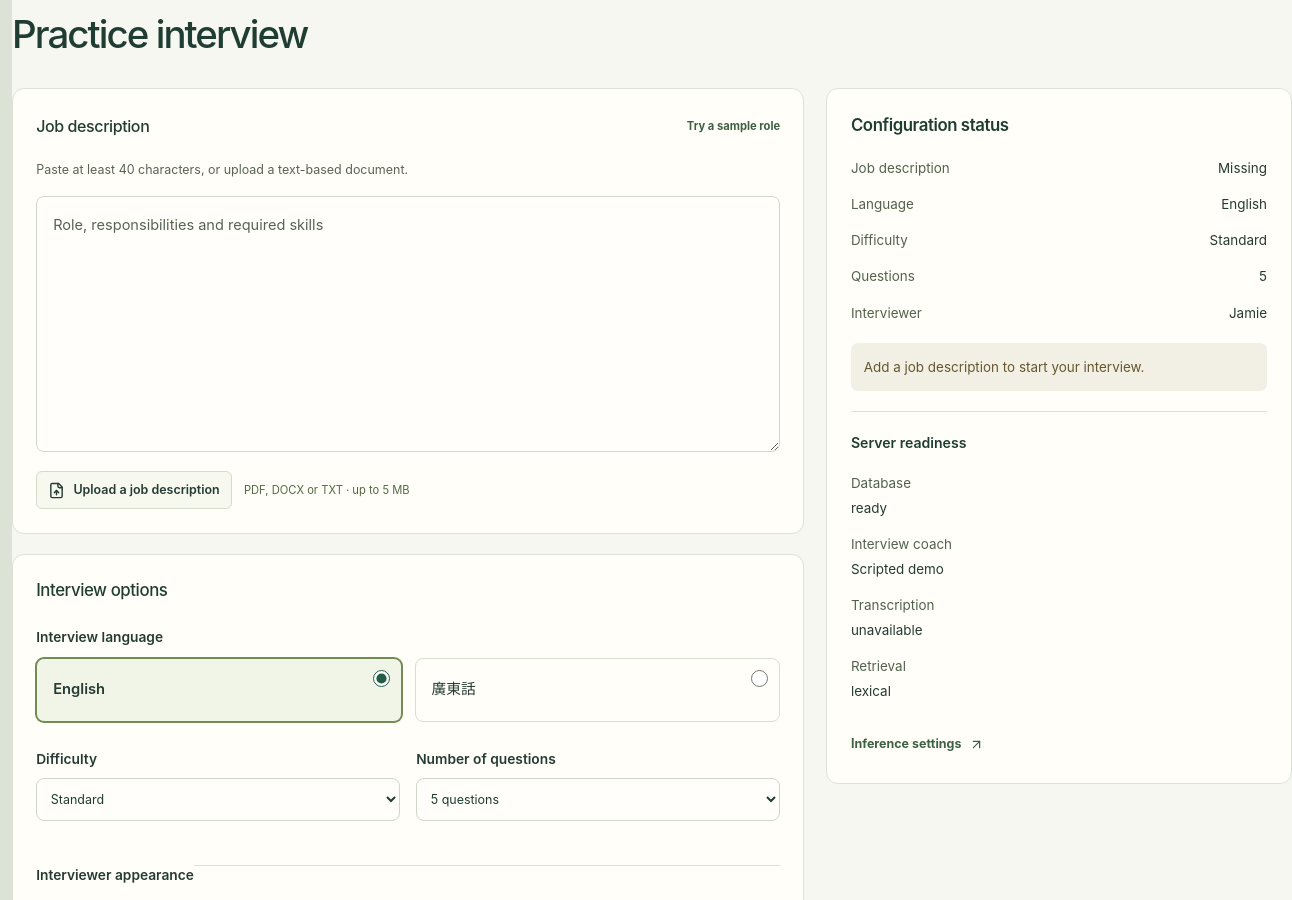
Test: interview setup › keeps the right column read-only while reflecting the selected configuration
The image size is (1292, 900).
Check: the text "Missing" is shown, box [1218,158,1267,178]
Click the radio button labelled "廣東話": {"x": 760, "y": 679} [751,670,768,687]
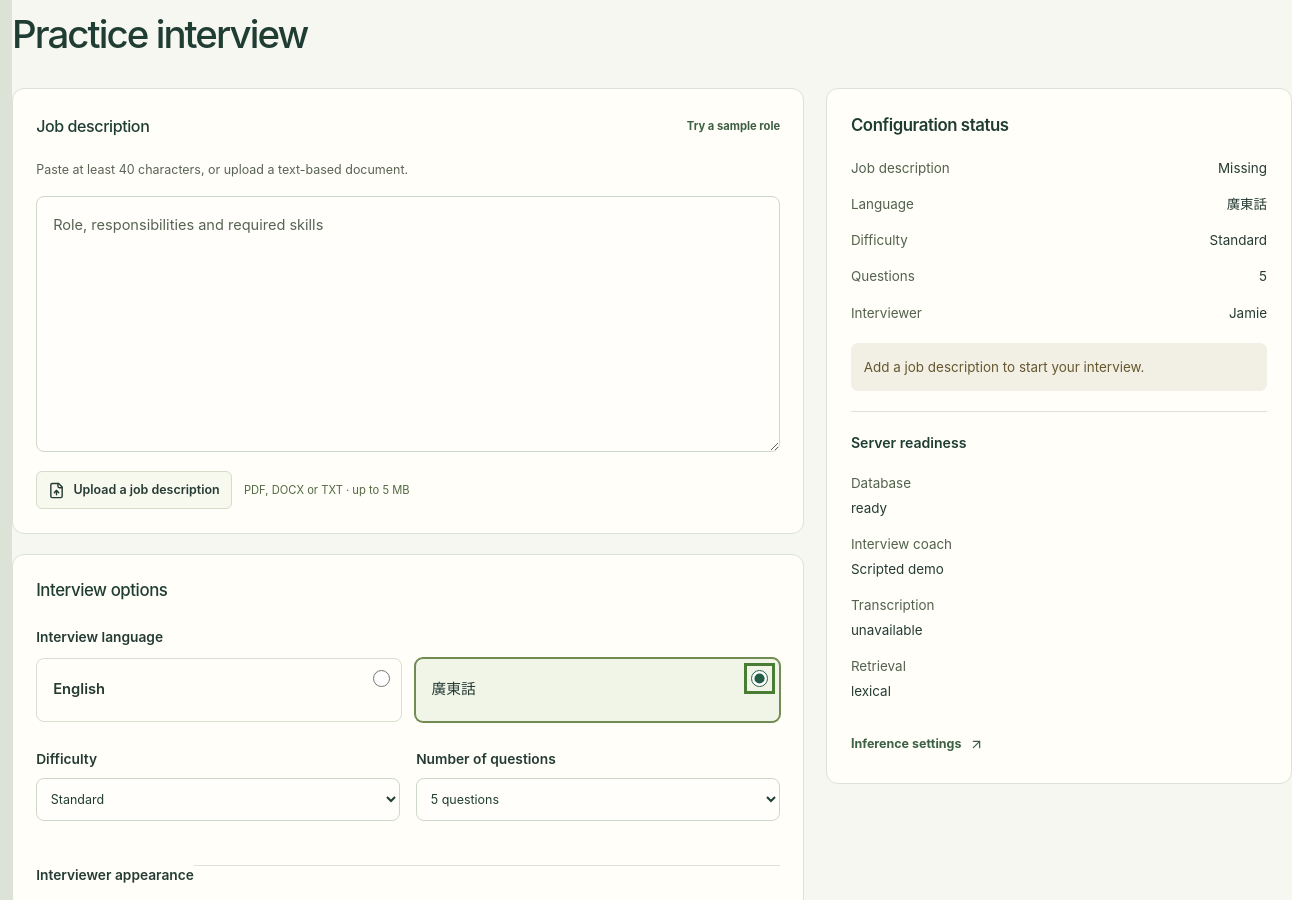
Select "Stretch" in the dropdown labelled "Difficulty": {"x": 218, "y": 800} [36,778,400,821]
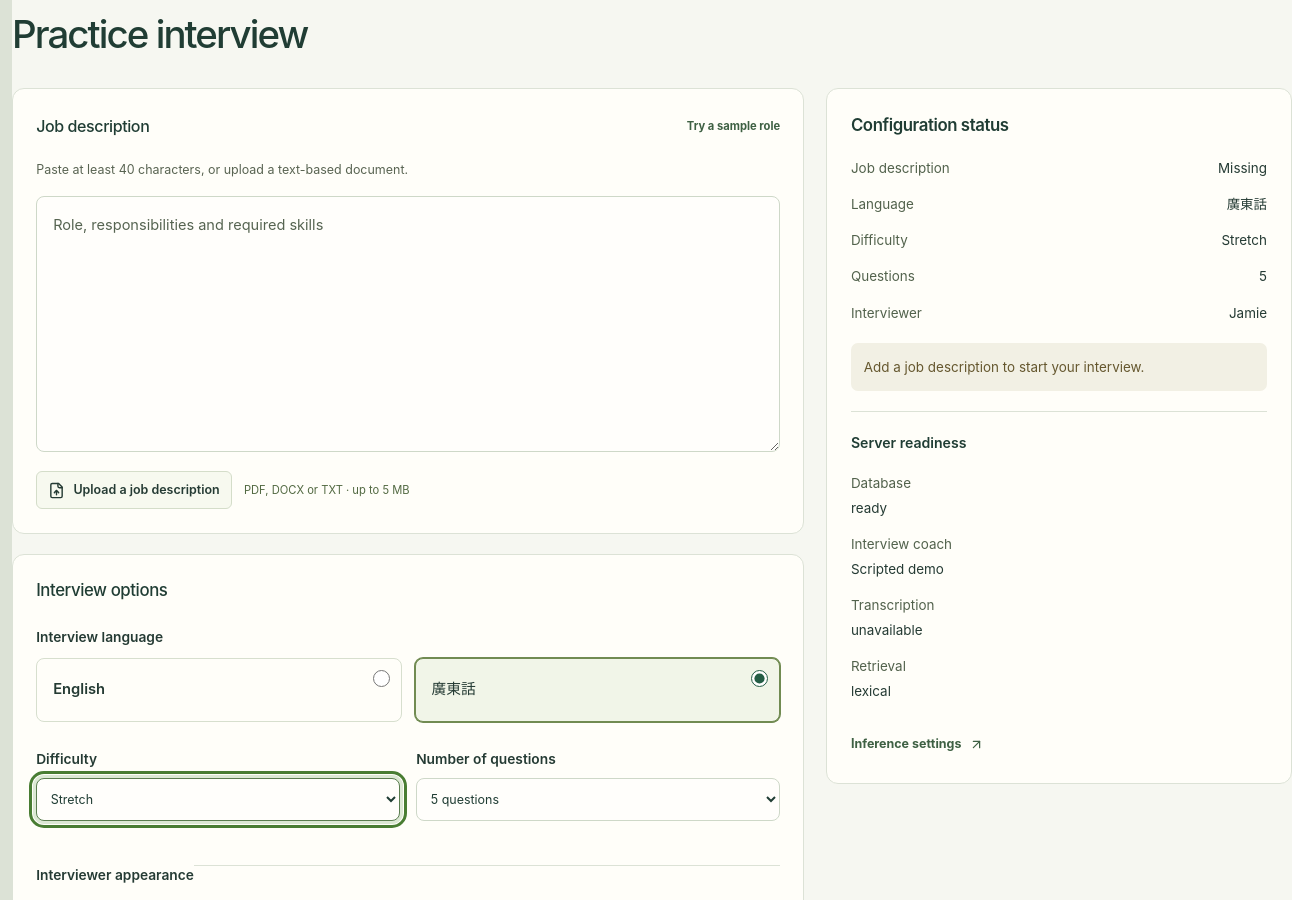
Select "8 questions" in the dropdown labelled "Number of questions": {"x": 598, "y": 800} [416,778,780,821]
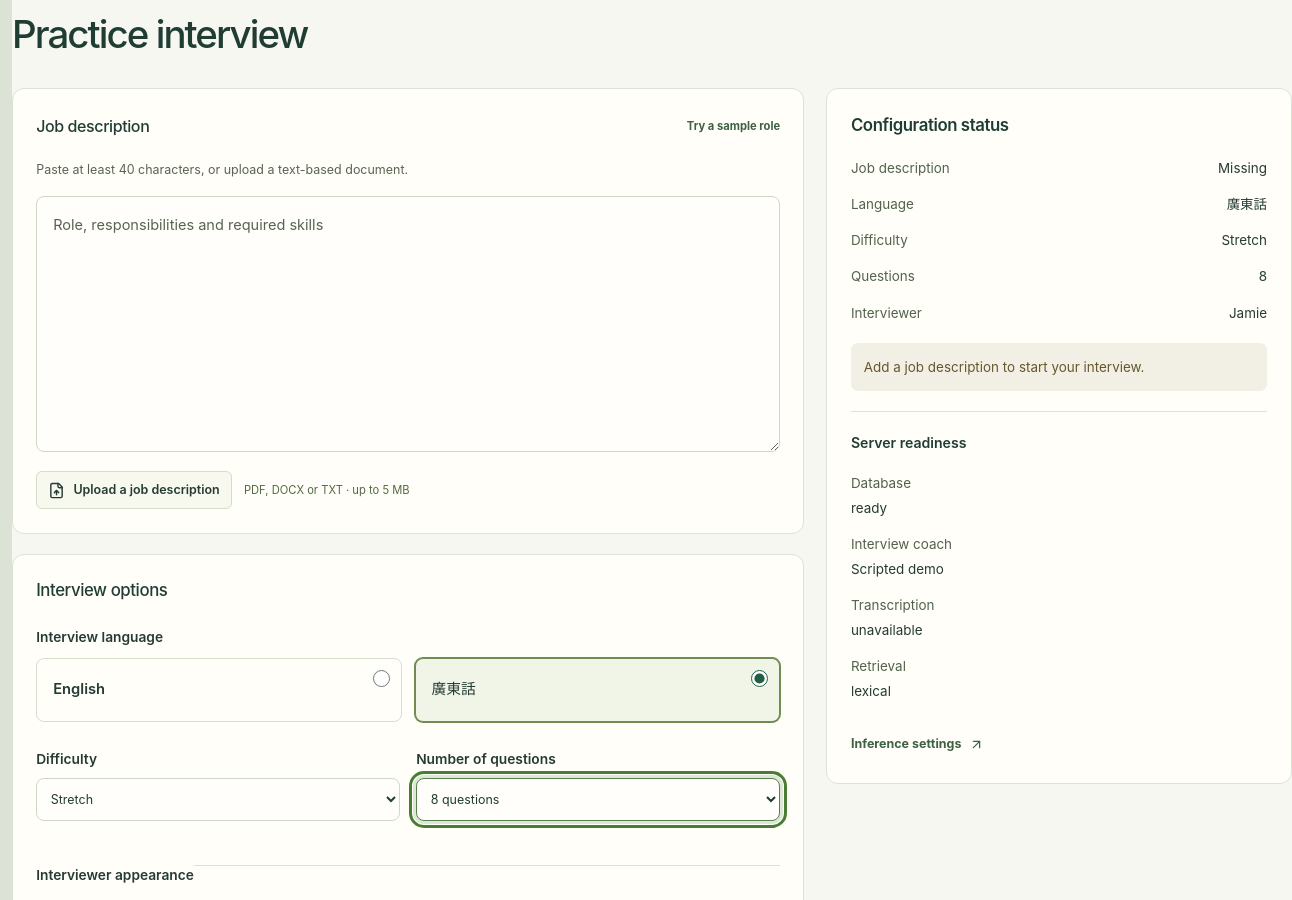
Check: the text "廣東話" below "Missing" is shown, box [1227,196,1267,212]
Check: the text "Stretch" is shown, box [1221,230,1267,250]
Check: the text "8" is shown, box [1259,266,1267,287]
